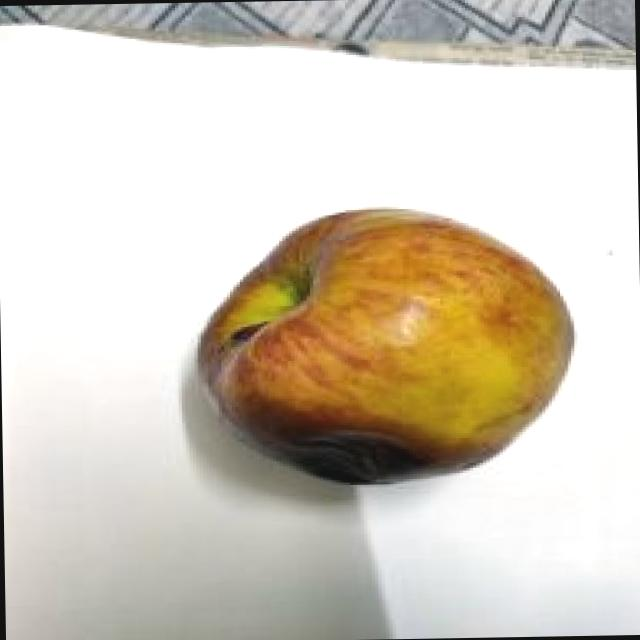Rotten_Apple: (187, 200, 592, 522)
